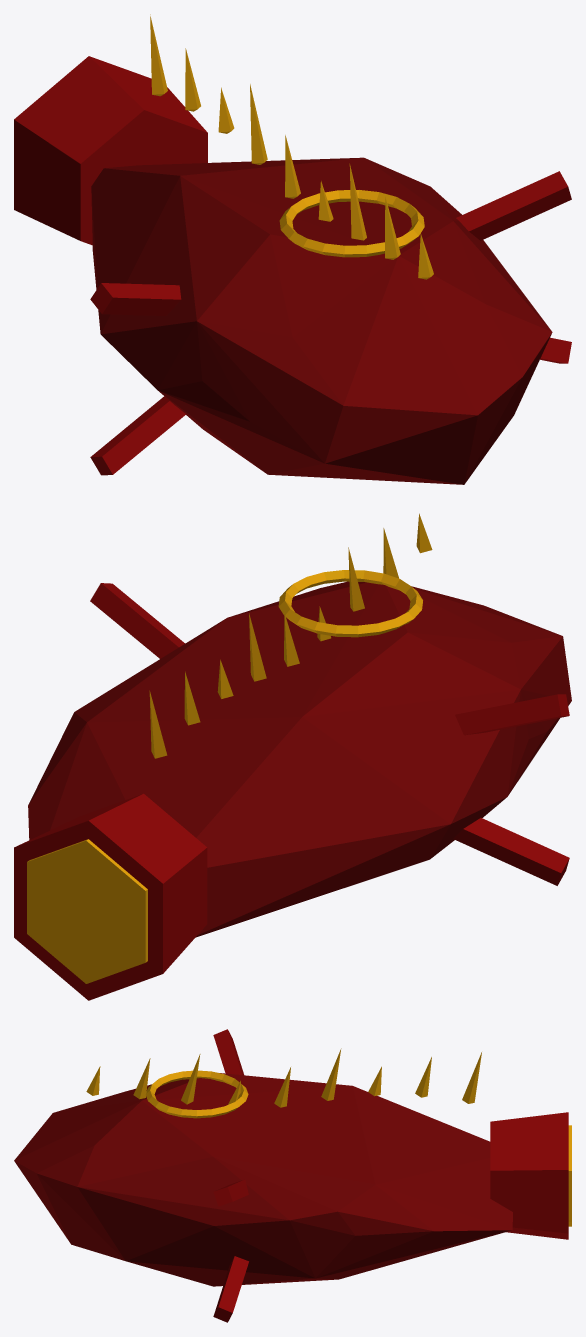
The model's file is carrier.glb.
The picture shows the model from 3 angles, top to bottom: view 1: azimuth 30°, elevation 25°; view 2: azimuth 150°, elevation 25°; view 3: azimuth 270°, elevation 25°; orthographic projection. The views are drawn at different scales.
Visible parts, largest first — view 1: carrier; view 2: carrier; view 3: carrier.
Part boxes in pixels (<box>): carrier: <box>14,14,571,484</box>; carrier: <box>14,513,571,1000</box>; carrier: <box>14,1029,571,1322</box>.
Size of the model in its own units: 29.56 by 18.1 by 42.78.
